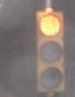Red: (32, 10, 70, 97)
